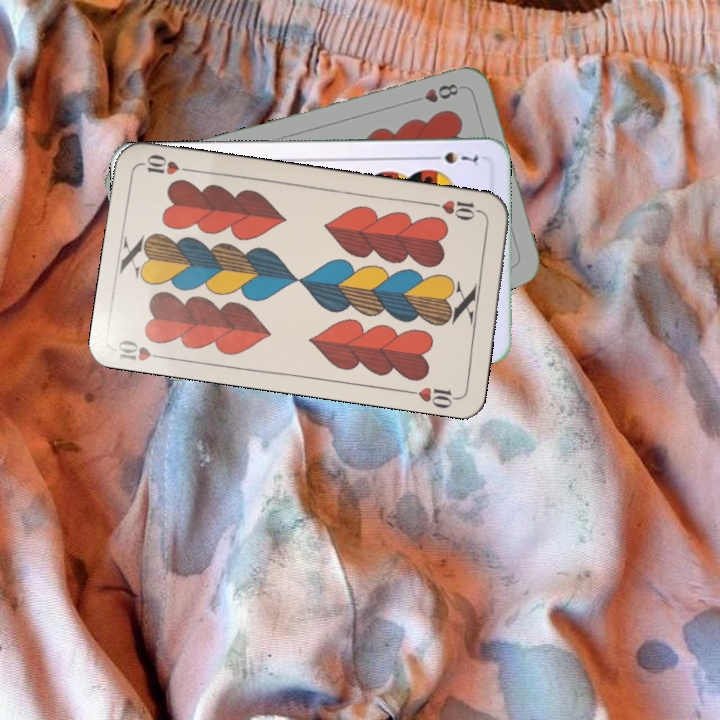H10: (114, 335, 171, 364), (427, 196, 486, 223)
H8: (407, 79, 461, 106)
S7: (425, 148, 481, 167)
